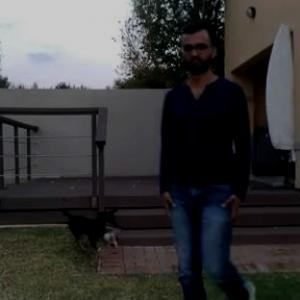follow: (140, 25, 244, 299)
